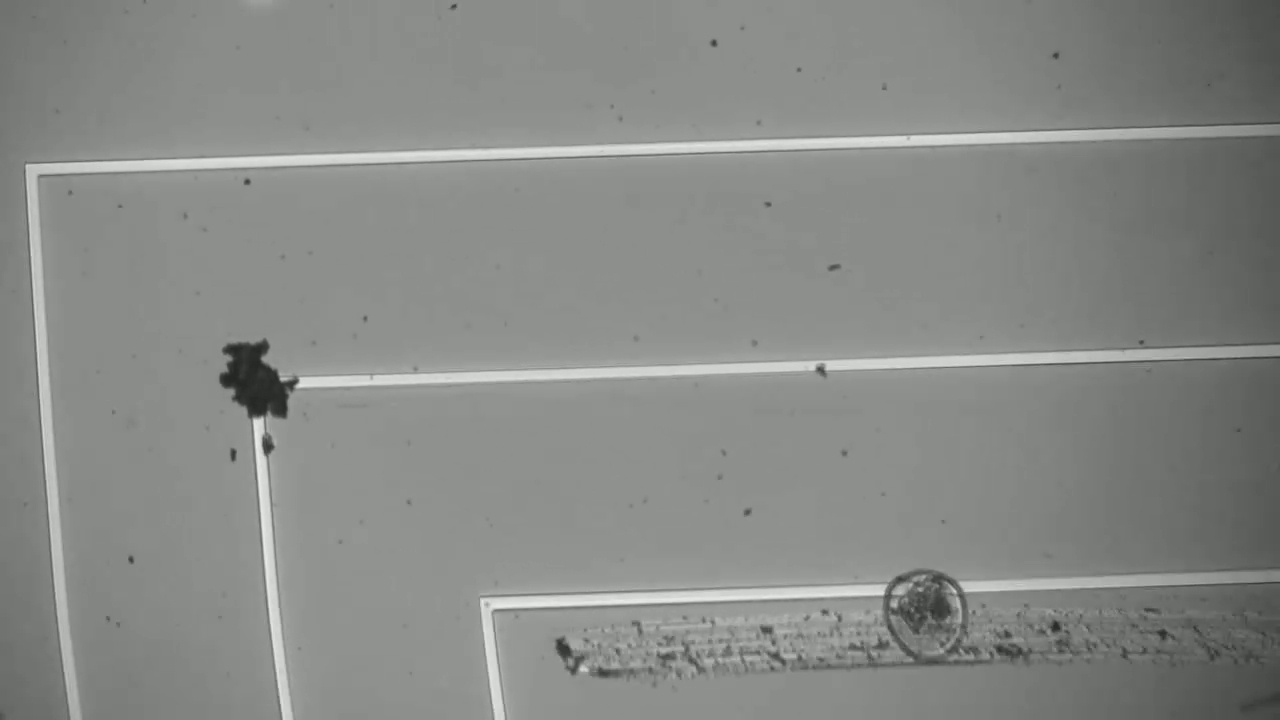stains_enbedded: (215, 332, 305, 444)
